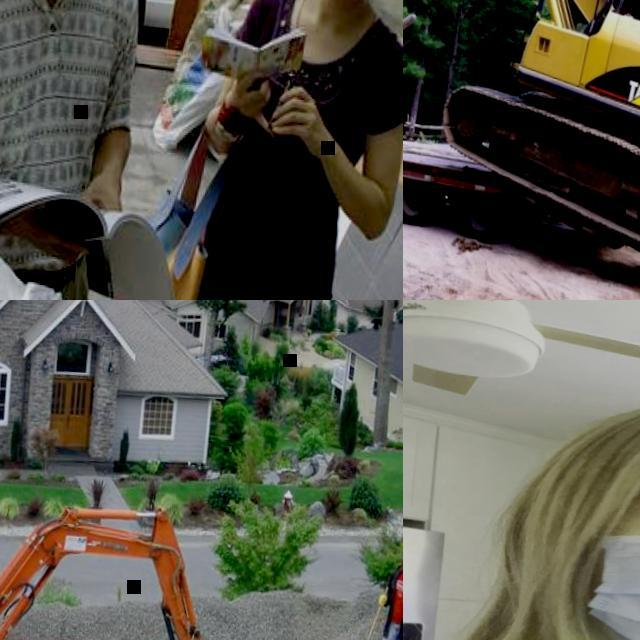vest: (388, 571, 403, 624)
